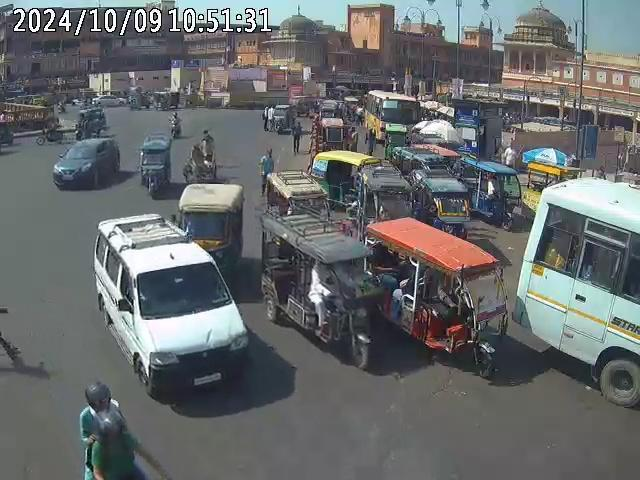auto: (362, 215, 509, 378), (260, 207, 376, 370), (177, 182, 246, 278), (310, 150, 378, 215), (411, 168, 471, 238), (263, 171, 332, 223), (138, 133, 173, 196), (74, 106, 108, 139), (320, 117, 347, 150)
bus: (91, 213, 253, 403), (513, 173, 639, 409), (364, 88, 422, 140)
car: (53, 137, 121, 191)
helmet: (92, 411, 126, 442), (84, 383, 115, 412)
license_plate: (190, 372, 224, 388)
motorbike: (168, 113, 183, 137)
motorbike-rider: (78, 379, 155, 479), (182, 143, 217, 183)
person: (259, 147, 275, 195), (290, 117, 302, 154)
